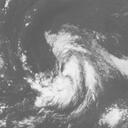cyclone: (37, 62, 82, 108)
